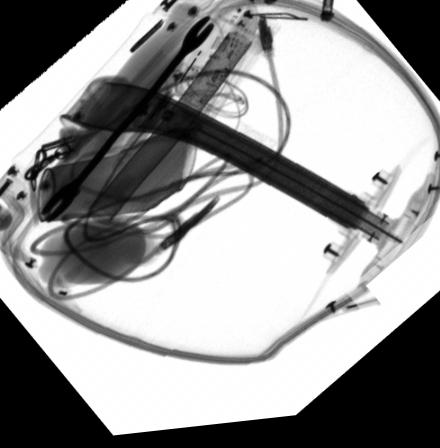Wrench: (40, 20, 214, 224)
